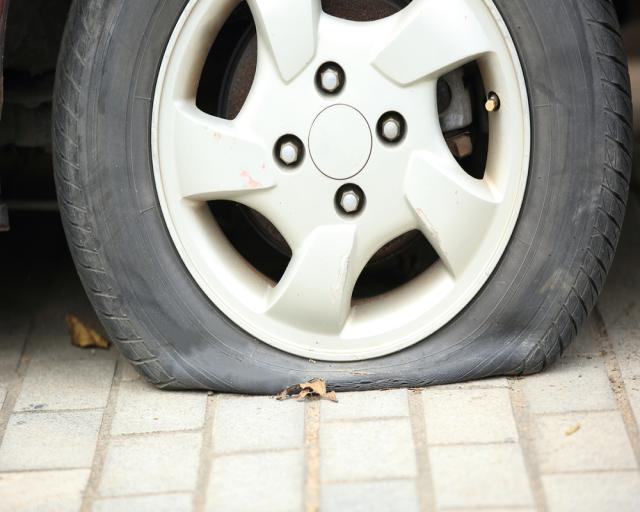tire flat: (52, 0, 631, 395)
